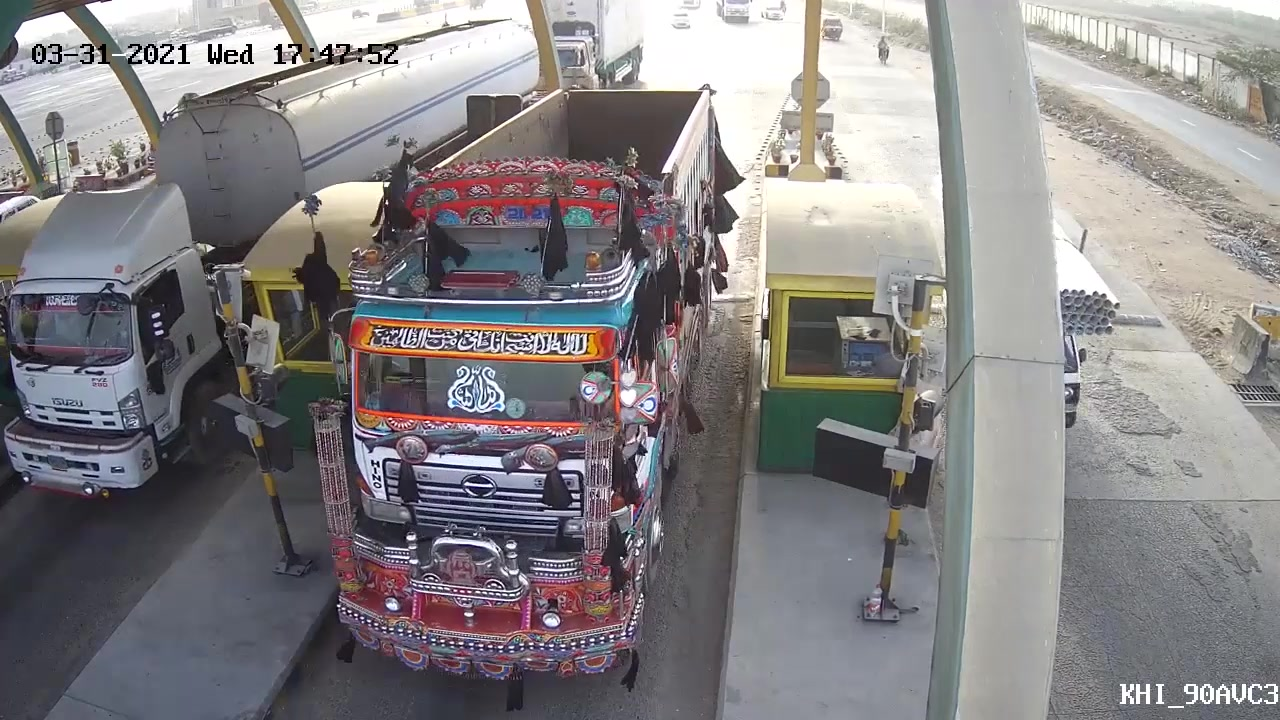F5: (336, 60, 744, 694)
